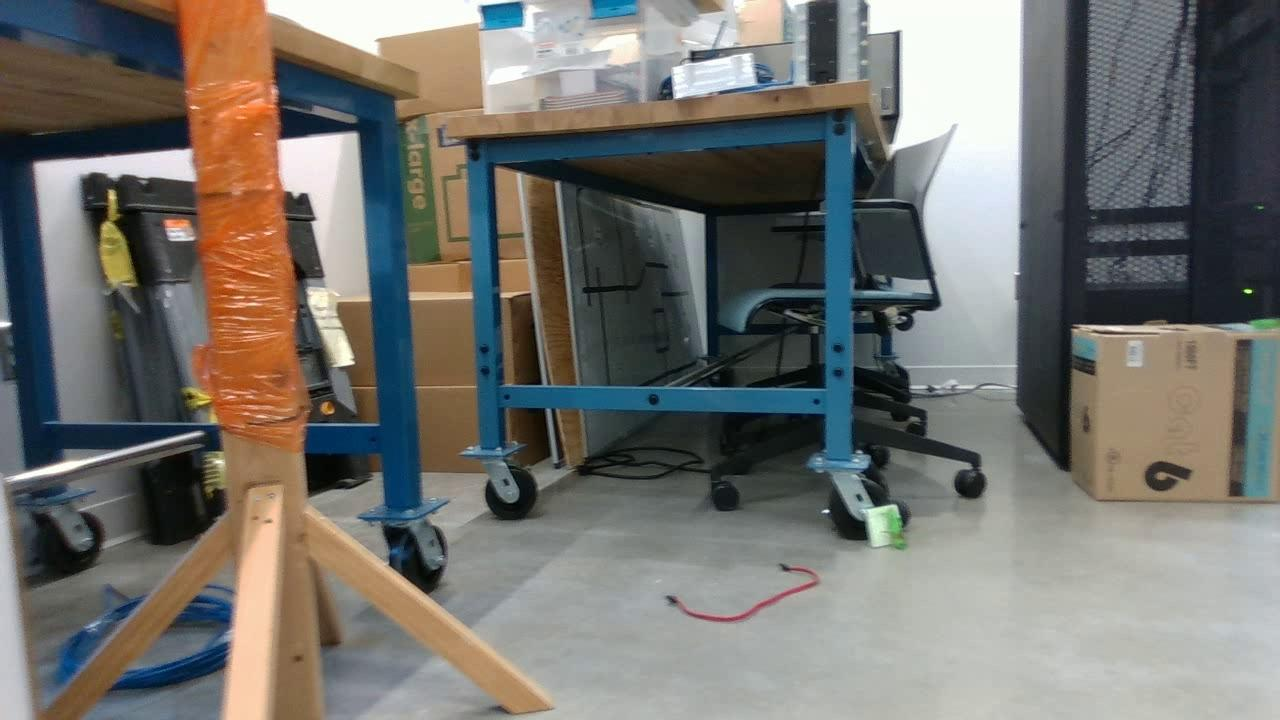grasshopper: (888, 505, 906, 552), (1247, 315, 1280, 332)
